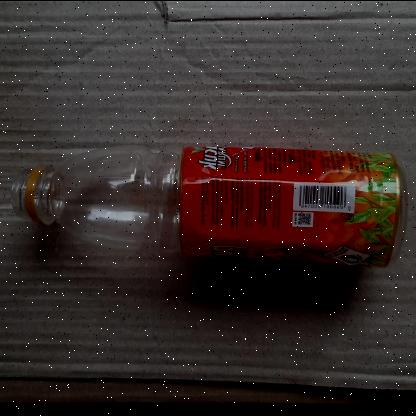Plastic Bottle: (13, 146, 405, 268)
